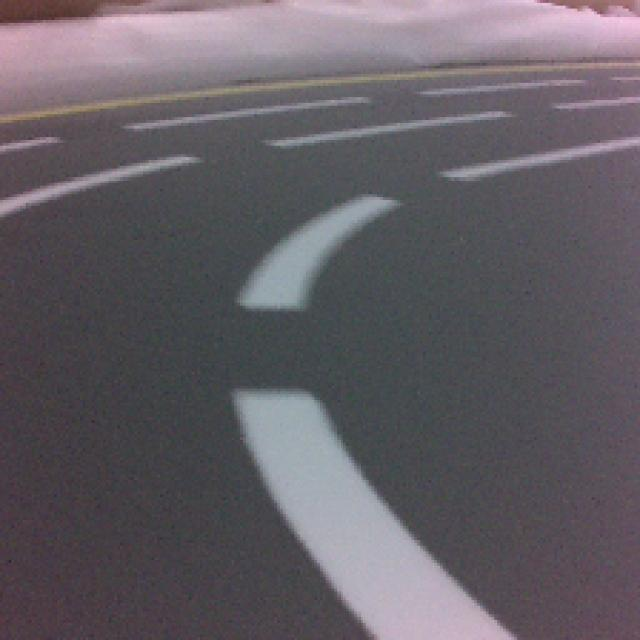Pedestrian crosswalk: (233, 388, 520, 640)
